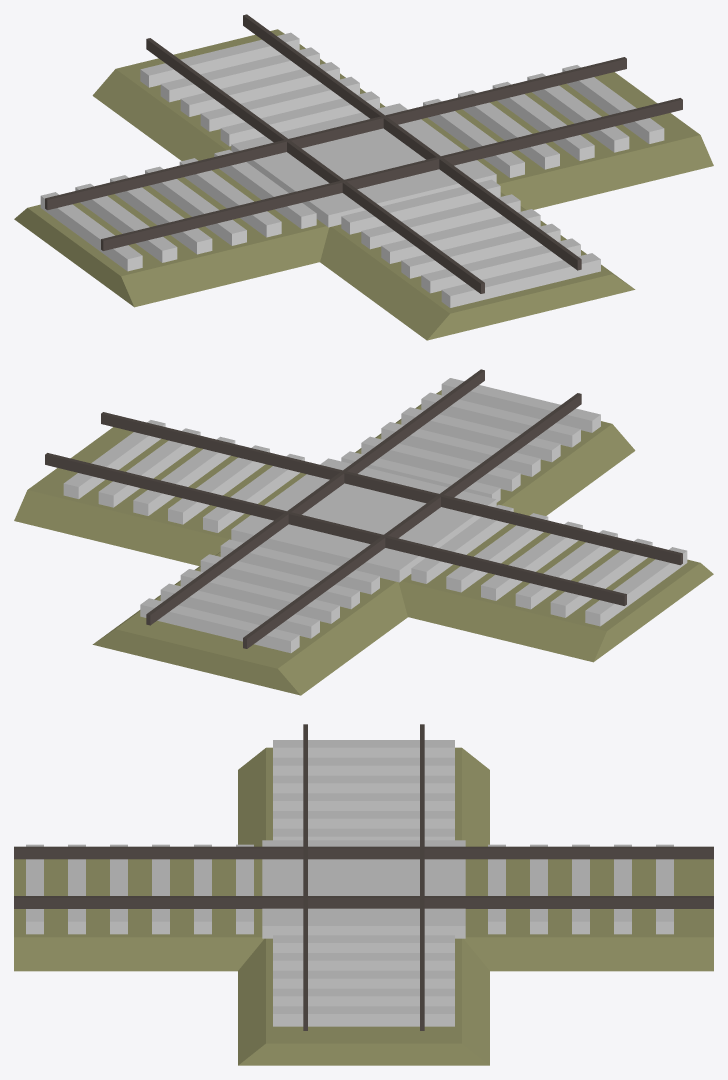
Rendered from SM_Via_Cruce_v0_Hormigon_LOD0.fbx.
3 views of the same model, one above another, from view 1: azimuth 30°, elevation 25°; view 2: azimuth 150°, elevation 25°; view 3: azimuth 270°, elevation 25° (orthographic). The views are drawn at different scales.
Parts seen in each view (by area): view 1: SM_via_trazado_v40_LOD0; view 2: SM_via_trazado_v40_LOD0; view 3: SM_via_trazado_v40_LOD0.
Boxes of the visible parts, box(x1,y1,x2,y2) form: SM_via_trazado_v40_LOD0: box(14, 14, 713, 340); SM_via_trazado_v40_LOD0: box(14, 369, 713, 695); SM_via_trazado_v40_LOD0: box(14, 724, 713, 1065).
Bounding box in the file's own units: 10 × 0.722 × 10.
